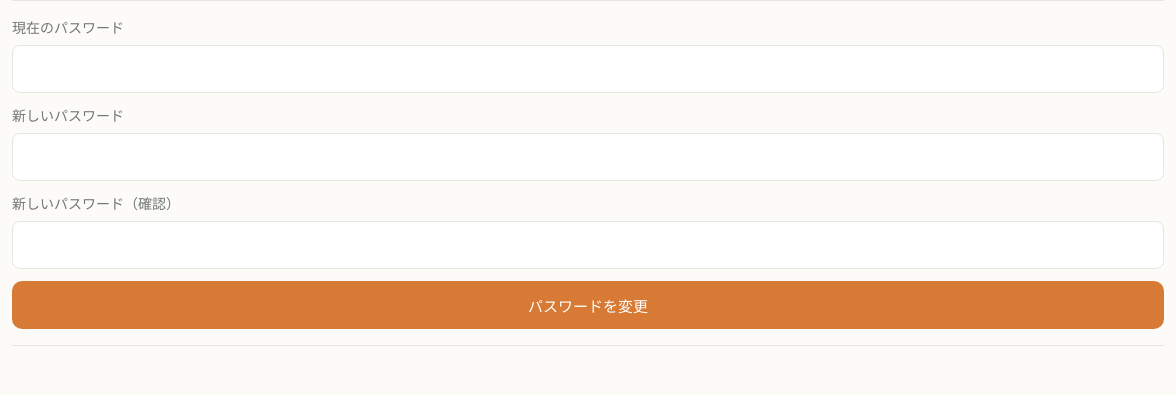
Test: Account password settings › shows busy and success feedback for a valid update
This screenshot has width=1176, height=395.
Type "old-password" into the password field labelled "現在のパスワード".
click(588, 69); type("old-password")  # box [12,45,1164,93]
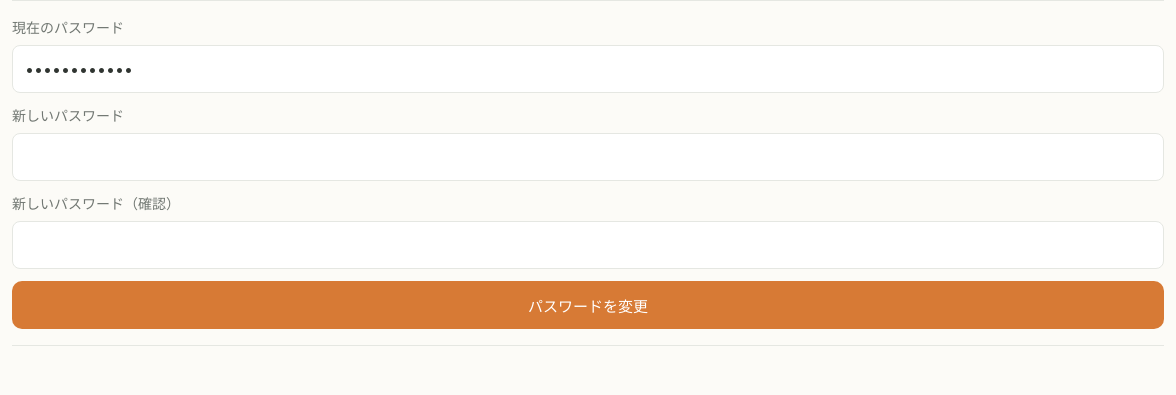
Type "new-password-123" into the password field labelled "新しいパスワード".
click(588, 157); type("new-password-123")  # box [12,133,1164,181]
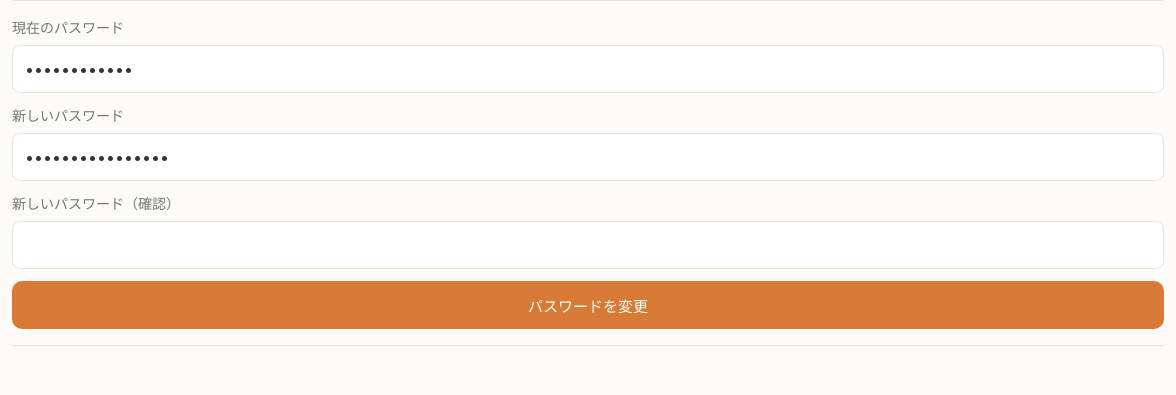
Type "new-password-123" into the password field labelled "新しいパスワード（確認）".
click(588, 245); type("new-password-123")  # box [12,221,1164,269]
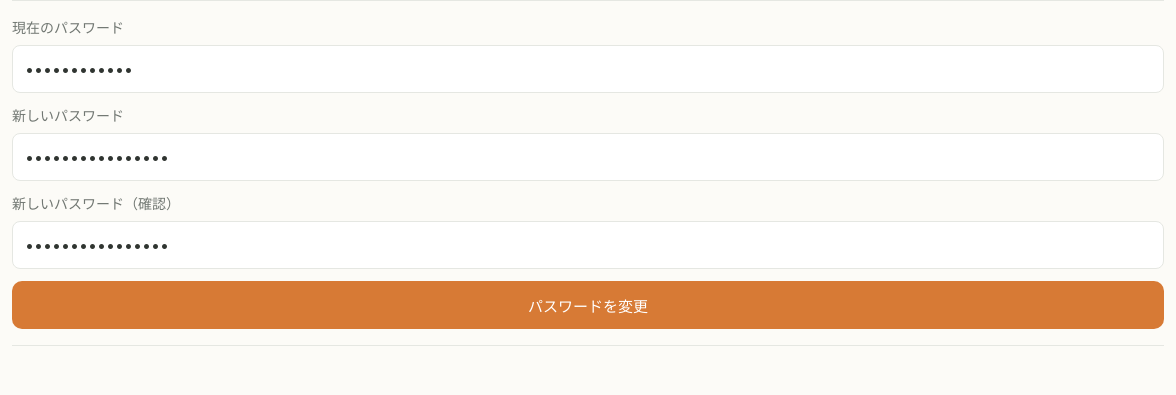
Click the button "パスワードを変更".
click(588, 305)  # box [12,281,1164,329]
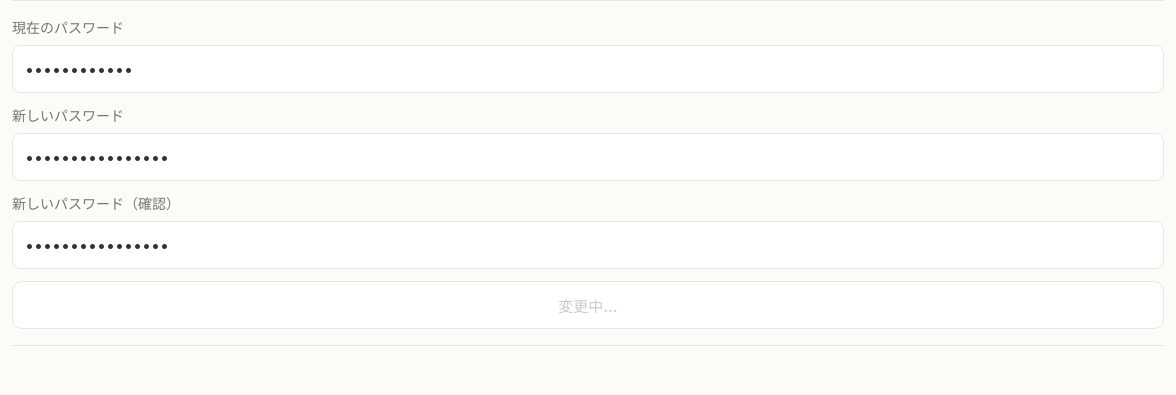
Now the button "変更中…" is disabled
Click the button "変更中…".
click(588, 305)  # box [12,281,1164,329]
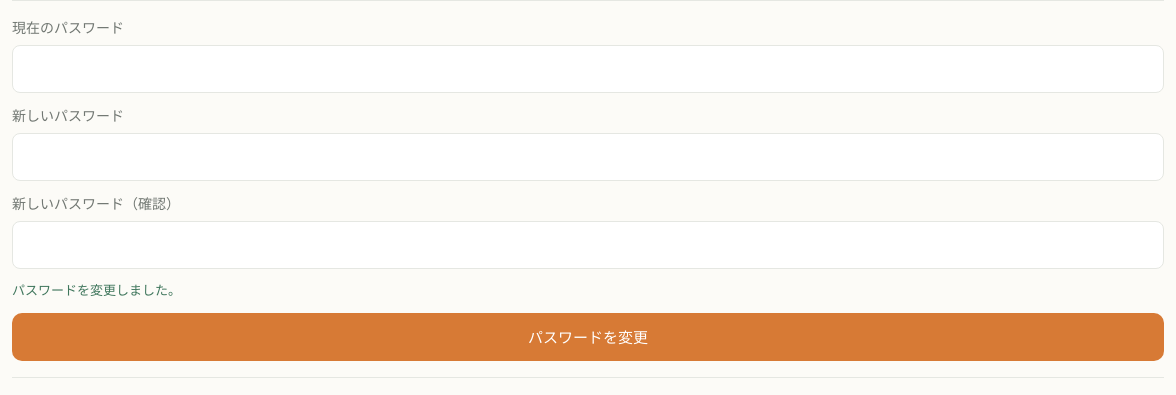
Now the message reads "パスワードを変更しました。", box [12,282,181,298]
